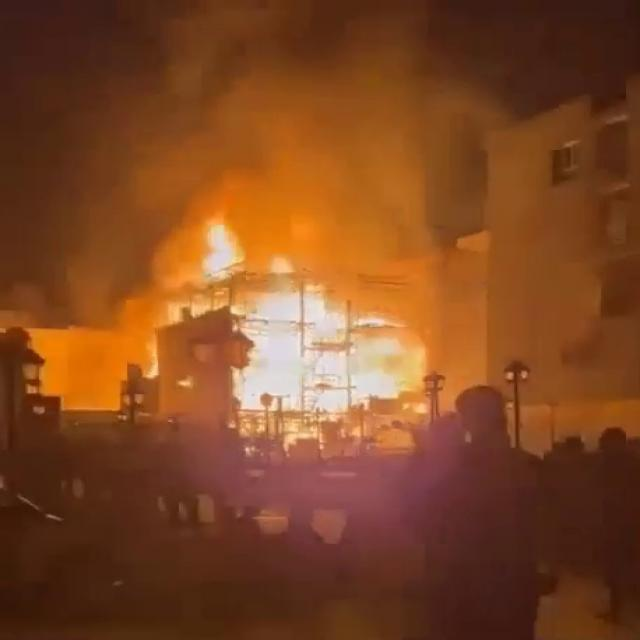Fire: (231, 268, 429, 415), (197, 190, 250, 282)
